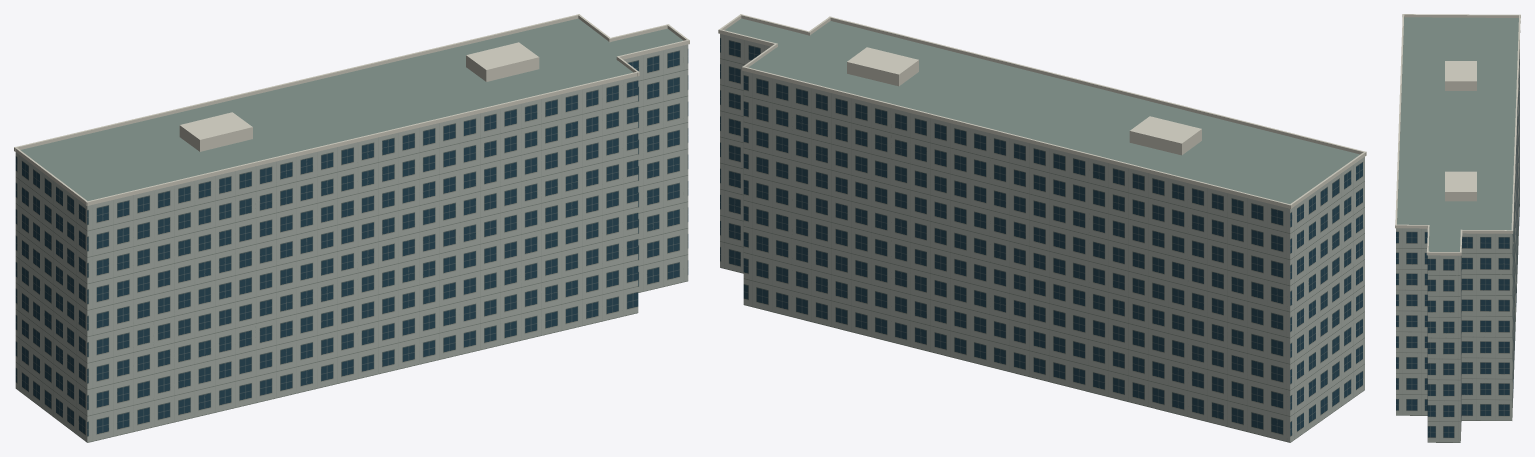
File: fragments.glb
The picture shows the model from 3 angles, left to right: view 1: azimuth 30°, elevation 25°; view 2: azimuth 150°, elevation 25°; view 3: azimuth 270°, elevation 25°; orthographic projection. The views are drawn at different scales.
Visible parts, largest first — view 1: SM_IT1V2_Fragment_006, SM_IT1V2_Fragment_031, SM_IT1V2_Fragment_034, SM_IT1V2_Fragment_015, SM_IT1V2_Fragment_014, SM_IT1V2_Fragment_024, SM_IT1V2_Fragment_012, SM_IT1V2_Fragment_032, SM_IT1V2_Fragment_002, SM_IT1V2_Fragment_028, SM_IT1V2_Fragment_049, SM_IT1V2_Fragment_050 (+29 smaller); view 2: SM_IT1V2_Fragment_009, SM_IT1V2_Fragment_025, SM_IT1V2_Fragment_001, SM_IT1V2_Fragment_022, SM_IT1V2_Fragment_010, SM_IT1V2_Fragment_019, SM_IT1V2_Fragment_060, SM_IT1V2_Fragment_017, SM_IT1V2_Fragment_030, SM_IT1V2_Fragment_003, SM_IT1V2_Fragment_013, SM_IT1V2_Fragment_016 (+28 smaller); view 3: SM_IT1V2_Fragment_040, SM_IT1V2_Fragment_002, SM_IT1V2_Fragment_021, SM_IT1V2_Fragment_041, SM_IT1V2_Fragment_038, SM_IT1V2_Fragment_026, SM_IT1V2_Fragment_019, SM_IT1V2_Fragment_027, SM_IT1V2_Fragment_030, SM_IT1V2_Fragment_050, SM_IT1V2_Fragment_056, SM_IT1V2_Fragment_005 (+17 smaller).
Boxes of the visible parts, <box> form: SM_IT1V2_Fragment_006: <box>56,342,197,442</box>; SM_IT1V2_Fragment_031: <box>380,100,482,212</box>; SM_IT1V2_Fragment_034: <box>74,237,170,365</box>; SM_IT1V2_Fragment_015: <box>524,174,638,296</box>; SM_IT1V2_Fragment_014: <box>321,267,410,387</box>; SM_IT1V2_Fragment_024: <box>294,180,396,291</box>; SM_IT1V2_Fragment_012: <box>459,74,582,166</box>; SM_IT1V2_Fragment_032: <box>458,166,551,275</box>; SM_IT1V2_Fragment_002: <box>529,33,645,137</box>; SM_IT1V2_Fragment_028: <box>189,328,314,418</box>; SM_IT1V2_Fragment_049: <box>153,167,249,273</box>; SM_IT1V2_Fragment_050: <box>269,106,393,184</box>; SM_IT1V2_Fragment_009: <box>822,211,926,348</box>; SM_IT1V2_Fragment_025: <box>1125,136,1238,264</box>; SM_IT1V2_Fragment_001: <box>1226,180,1332,299</box>; SM_IT1V2_Fragment_022: <box>901,200,1014,315</box>; SM_IT1V2_Fragment_010: <box>797,75,895,211</box>; SM_IT1V2_Fragment_019: <box>884,78,1018,195</box>; SM_IT1V2_Fragment_060: <box>954,156,1069,272</box>; SM_IT1V2_Fragment_017: <box>1119,259,1222,366</box>; SM_IT1V2_Fragment_030: <box>1056,117,1173,220</box>; SM_IT1V2_Fragment_003: <box>1043,295,1149,400</box>; SM_IT1V2_Fragment_013: <box>1232,291,1336,397</box>; SM_IT1V2_Fragment_016: <box>743,238,841,329</box>; SM_IT1V2_Fragment_040: <box>1461,208,1513,308</box>; SM_IT1V2_Fragment_002: <box>1395,200,1494,280</box>; SM_IT1V2_Fragment_021: <box>1424,301,1513,377</box>; SM_IT1V2_Fragment_041: <box>1410,235,1462,317</box>; SM_IT1V2_Fragment_038: <box>1434,167,1515,208</box>; SM_IT1V2_Fragment_026: <box>1401,23,1501,62</box>; SM_IT1V2_Fragment_019: <box>1436,139,1516,207</box>; SM_IT1V2_Fragment_027: <box>1427,312,1461,385</box>; SM_IT1V2_Fragment_030: <box>1437,66,1518,149</box>; SM_IT1V2_Fragment_050: <box>1398,95,1464,138</box>; SM_IT1V2_Fragment_056: <box>1396,315,1485,402</box>; SM_IT1V2_Fragment_005: <box>1427,373,1470,442</box>.
Size of the model in its own units: 2.81 by 1.08 by 0.6256.
4 materials, 2 textured.
